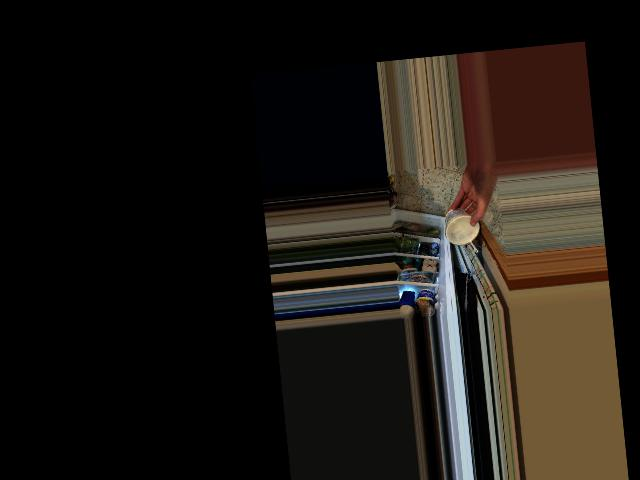cotage: (445, 207, 479, 249)
